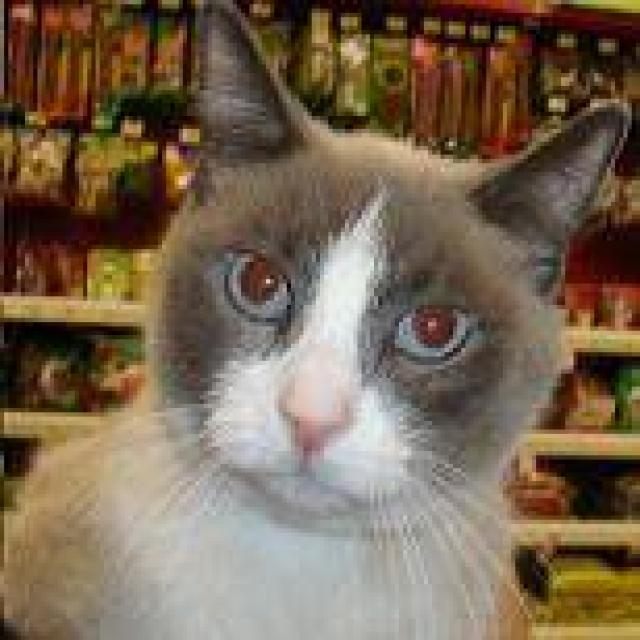cat: (0, 0, 632, 636)
